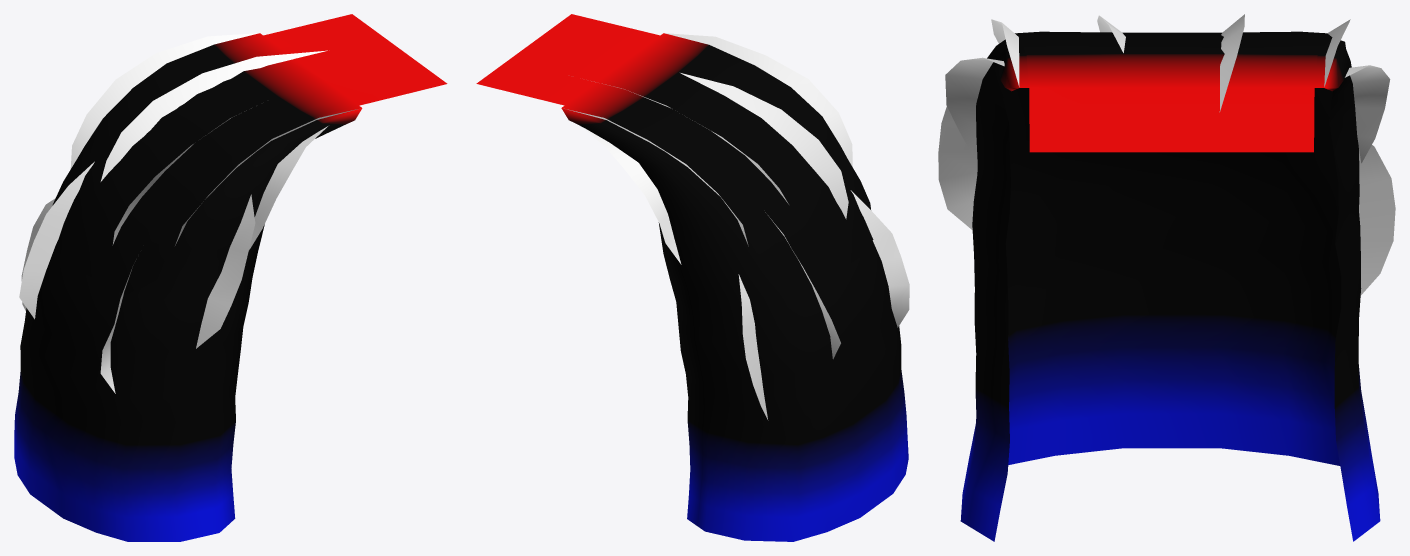
File: TEM_Waterfall_01A.fbx
The picture shows the model from 3 angles, left to right: view 1: azimuth 30°, elevation 25°; view 2: azimuth 150°, elevation 25°; view 3: azimuth 270°, elevation 25°; orthographic projection. The views are drawn at different scales.
Parts seen in each view (by area): view 1: TEM_Waterfall_01A; view 2: TEM_Waterfall_01A; view 3: TEM_Waterfall_01A.
Part boxes in pixels (x1,y1,x2,y2): TEM_Waterfall_01A: (14, 14, 447, 541); TEM_Waterfall_01A: (476, 14, 909, 541); TEM_Waterfall_01A: (938, 14, 1395, 541).
Bounding box in the file's own units: 796 × 812 × 600.
